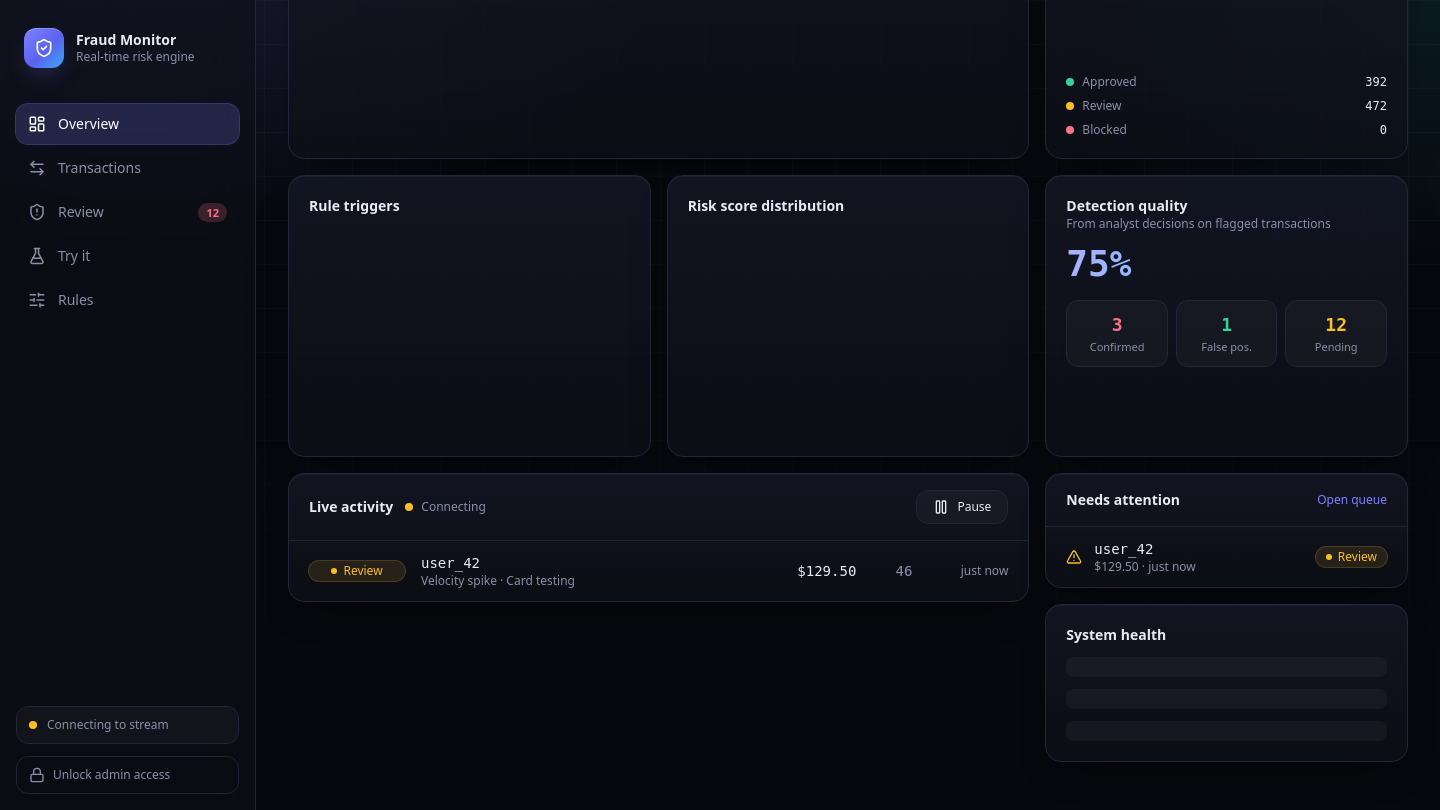
Test case: dashboard smoke test › opens the risk drawer from a row
The image size is (1440, 810).
(page scrolled)
Click the text "user_42" in the row of "46" at {"x": 450, "y": 563}, box top-left (421, 555), bottom-right (480, 571)
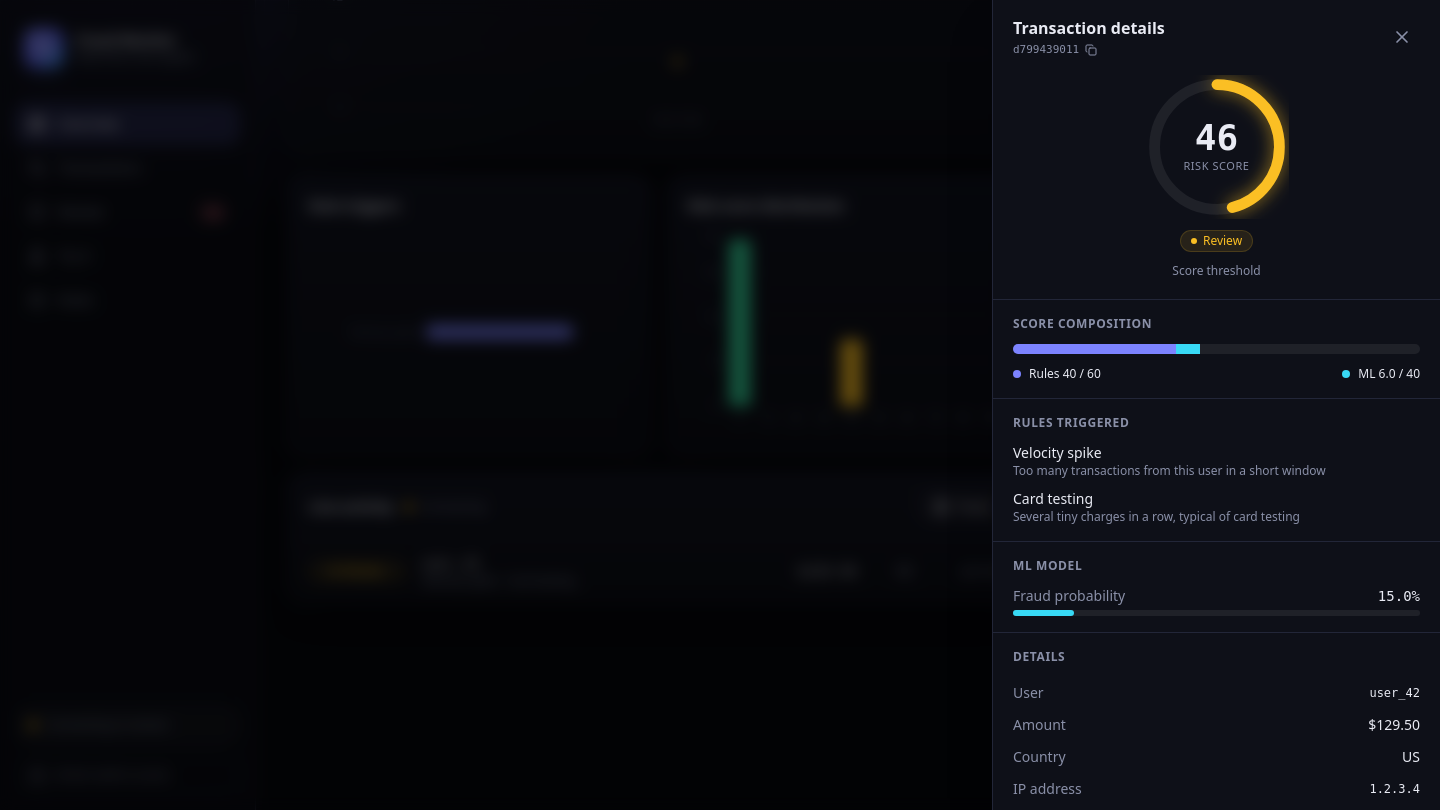
Check: the heading "Transaction details" is shown, box top-left (1013, 16), bottom-right (1165, 40)
Check: the heading "Score composition" is shown, box top-left (1013, 314), bottom-right (1152, 332)
